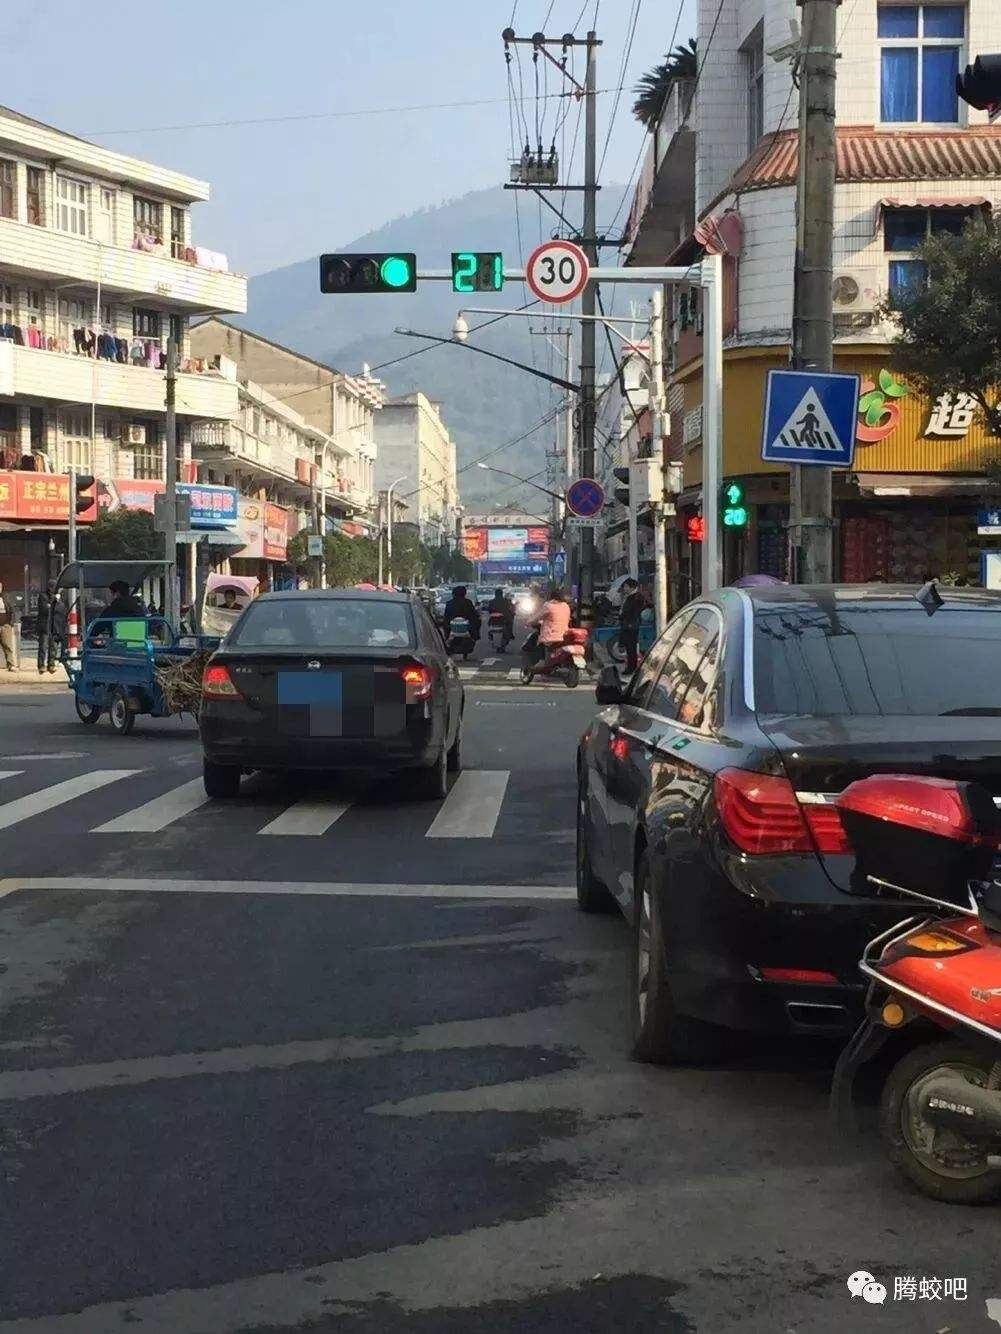green: (311, 247, 423, 300)
